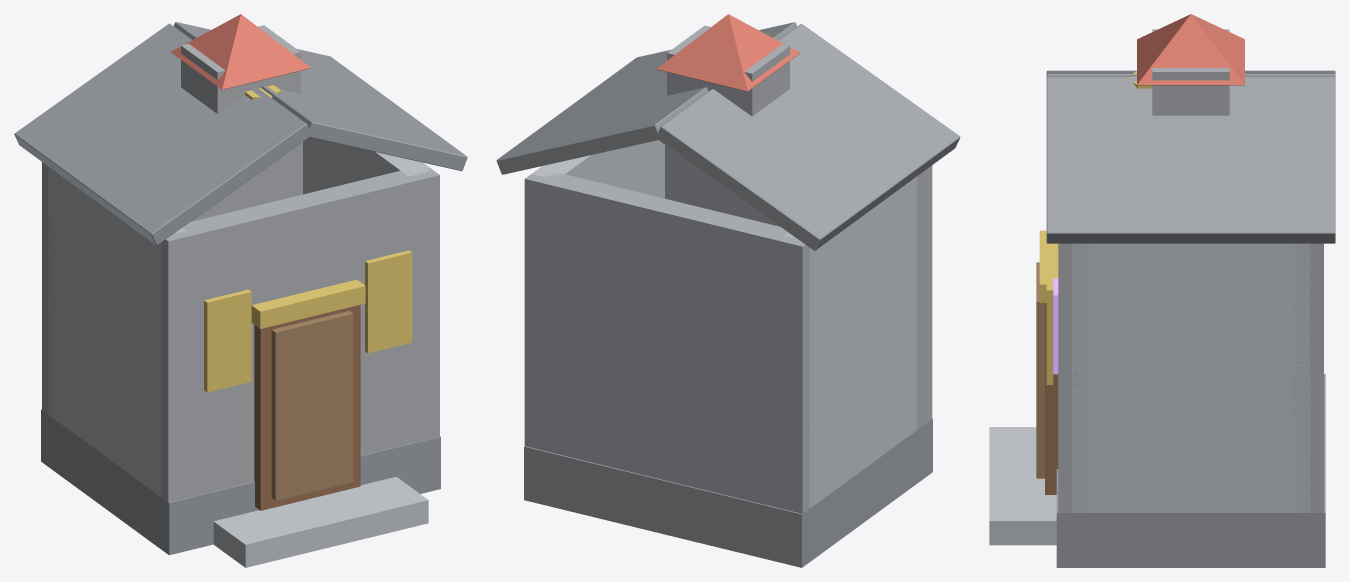
The model's file is chapel.glb.
3 views of the same model, side by side, from view 1: azimuth 30°, elevation 25°; view 2: azimuth 150°, elevation 25°; view 3: azimuth 270°, elevation 25° (orthographic). The views are drawn at different scales.
Parts seen in each view (by area): view 1: step; view 2: step; view 3: step.
Part boxes in pixels (x1,y1,x2,y2): step: (14,14,467,567); step: (496,14,960,567); step: (989,14,1335,567).
Size of the model in its own units: 2.28 by 3.18 by 2.06.
